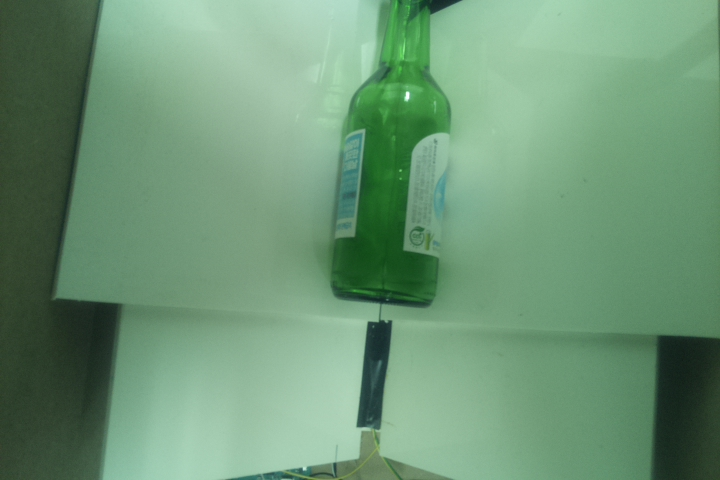soju: (329, 1, 452, 310)
